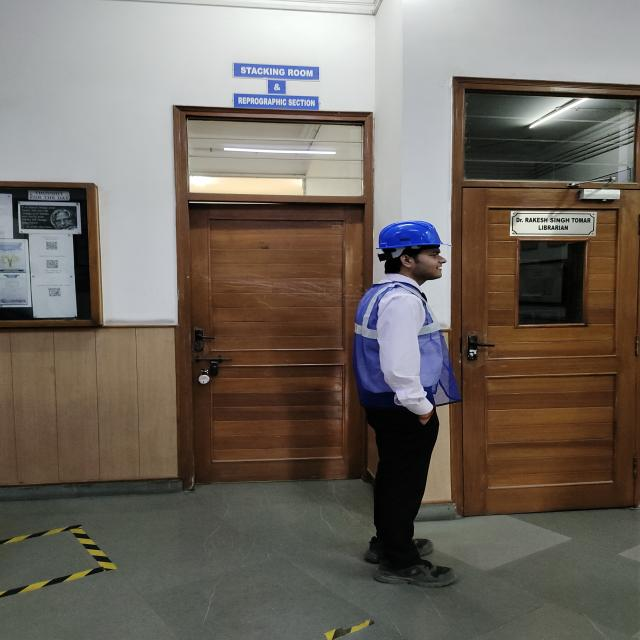safe: (354, 220, 462, 588)
